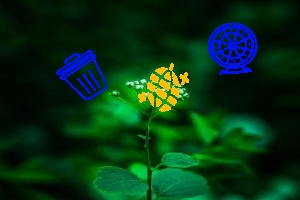垃圾桶: (57, 50, 109, 100)
手雷: (139, 64, 191, 112)
摩天轮: (208, 22, 258, 75)
